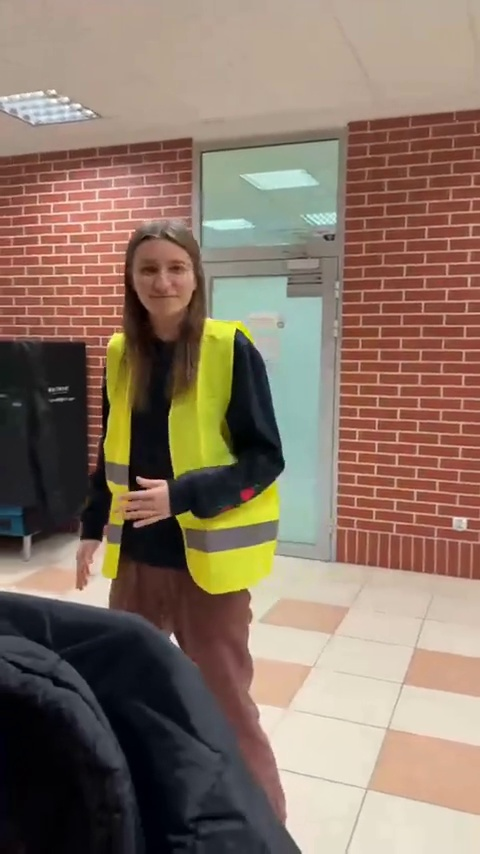vest: (81, 220, 313, 833)
